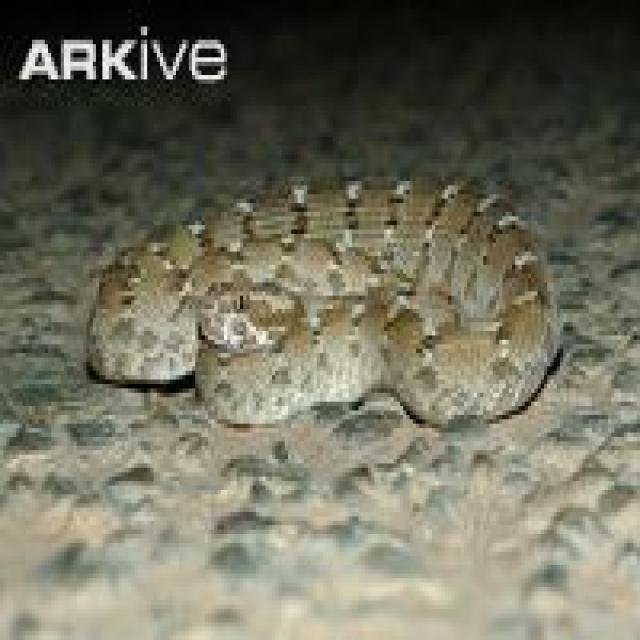Snake: (80, 168, 563, 428)
